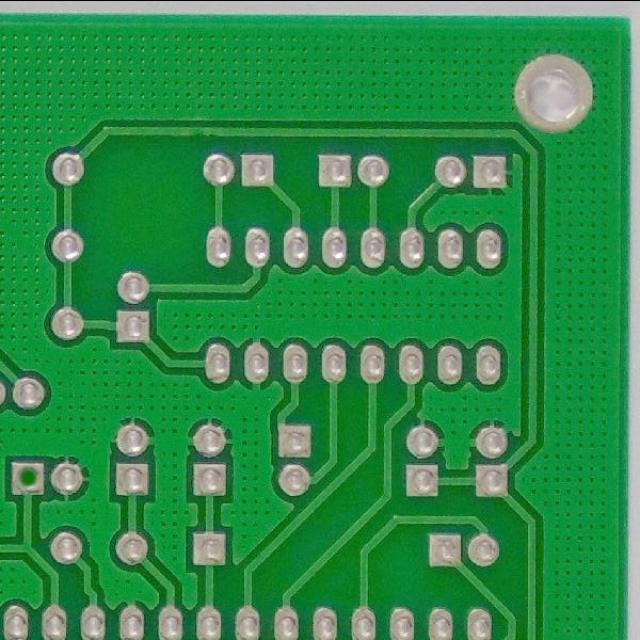Missing_Hole: (7, 458, 48, 497)
